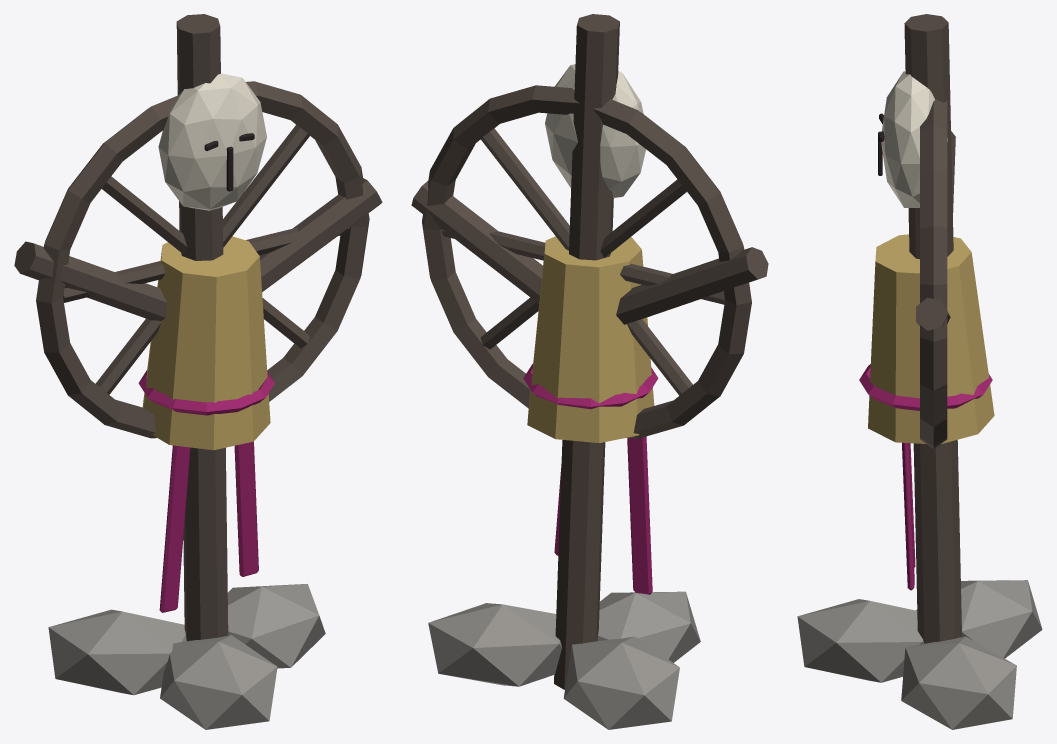
Rendered from cursed_effigy.glb.
The picture shows the model from 3 angles, left to right: view 1: azimuth 30°, elevation 25°; view 2: azimuth 150°, elevation 25°; view 3: azimuth 270°, elevation 25°; orthographic projection. The views are drawn at different scales.
Visible parts, largest first — view 1: cursed_effigy; view 2: cursed_effigy; view 3: cursed_effigy.
Part boxes in pixels (box(x1,y1,x2,y2)): cursed_effigy: box(14, 14, 382, 729); cursed_effigy: box(411, 14, 768, 729); cursed_effigy: box(797, 14, 1042, 729).
Size of the model in its own units: 1.55 by 2.81 by 0.9425.
